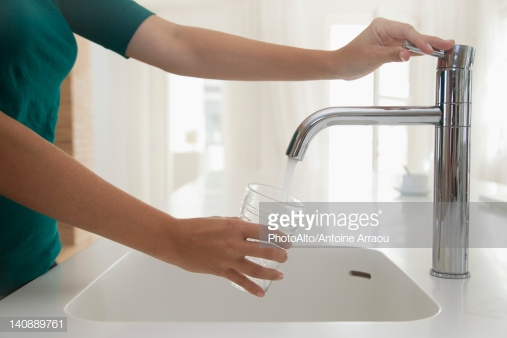glass of water: (235, 192, 310, 209)
